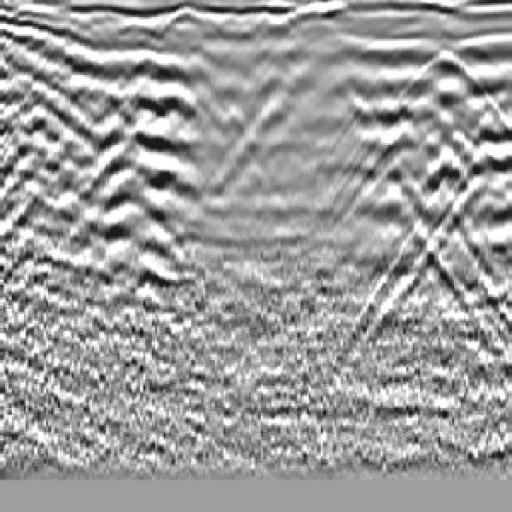non-metallic: (3, 51, 223, 292), (353, 35, 512, 302)
